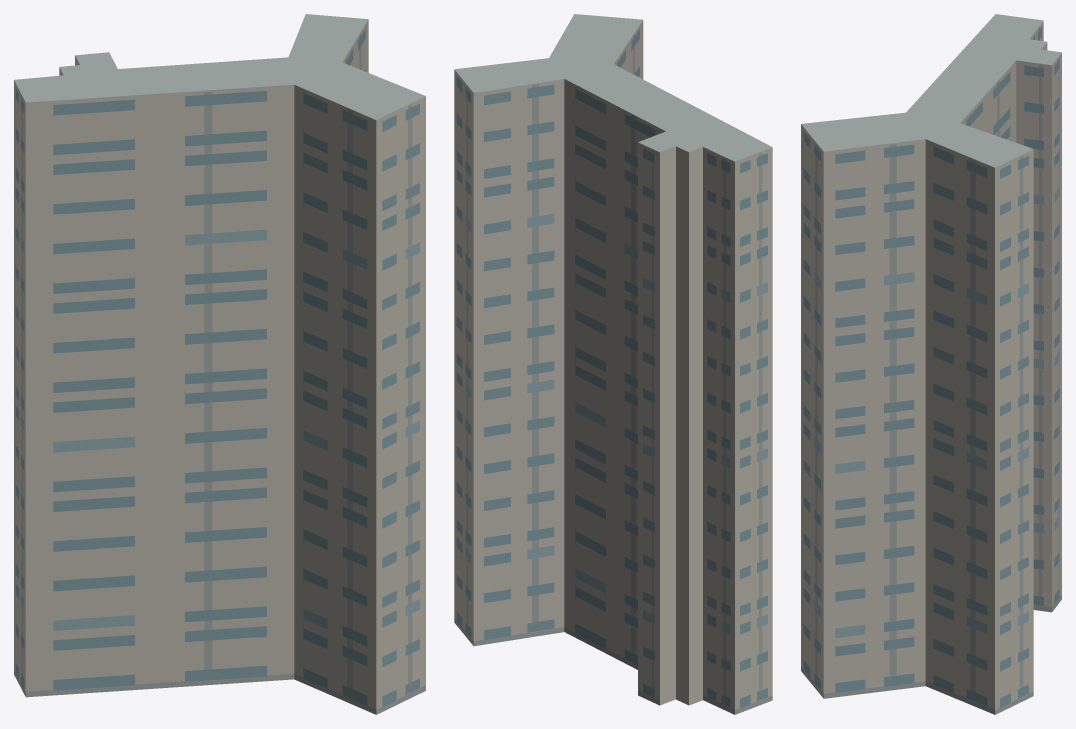
File: residential-d7600dc8-d536-44d9-8bb8-e9a5e2dbcef1.glb
3 views of the same model, side by side, from view 1: azimuth 30°, elevation 25°; view 2: azimuth 150°, elevation 25°; view 3: azimuth 270°, elevation 25° (orthographic). The views are drawn at different scales.
Parts seen in each view (by area): view 1: residential-d7600dc8-d536-44d9-8bb8-e9a5e2dbcef1.tmp; view 2: residential-d7600dc8-d536-44d9-8bb8-e9a5e2dbcef1.tmp; view 3: residential-d7600dc8-d536-44d9-8bb8-e9a5e2dbcef1.tmp.
Boxes of the visible parts, x1,y1,x2,y2 form: residential-d7600dc8-d536-44d9-8bb8-e9a5e2dbcef1.tmp: (14, 14, 425, 714); residential-d7600dc8-d536-44d9-8bb8-e9a5e2dbcef1.tmp: (454, 14, 772, 714); residential-d7600dc8-d536-44d9-8bb8-e9a5e2dbcef1.tmp: (801, 14, 1061, 714).
Bounding box in the file's own units: 58.49 × 97 × 41.92.
